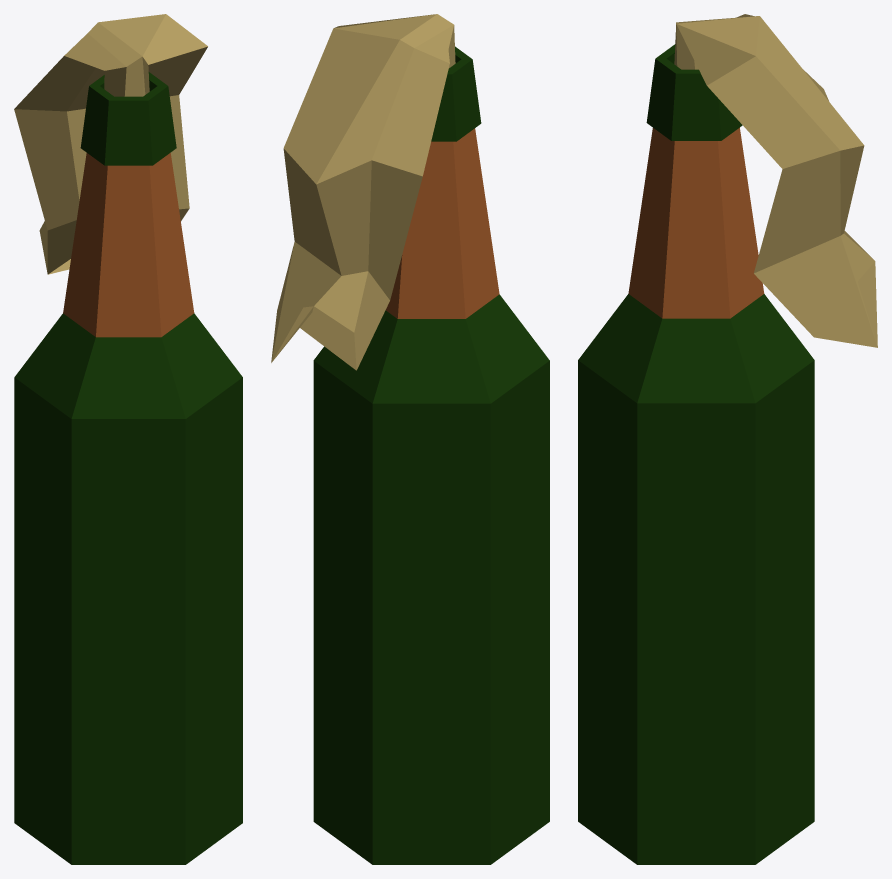
File: Molotov_Cocktail.fbx
3 views of the same model, side by side, from view 1: azimuth 30°, elevation 25°; view 2: azimuth 150°, elevation 25°; view 3: azimuth 270°, elevation 25° (orthographic). The views are drawn at different scales.
Visible parts, largest first — view 1: Molotov_Cocktail; view 2: Molotov_Cocktail; view 3: Molotov_Cocktail.
Boxes of the visible parts, bbox=[...] form: Molotov_Cocktail: bbox=[14, 14, 242, 864]; Molotov_Cocktail: bbox=[271, 14, 549, 864]; Molotov_Cocktail: bbox=[578, 14, 877, 864].
Size of the model in its own units: 4.4 by 18.33 by 6.18.
